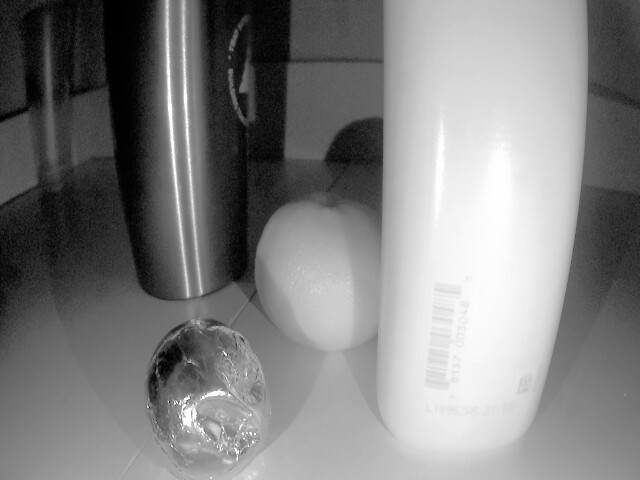silver: (124, 325, 281, 479)
